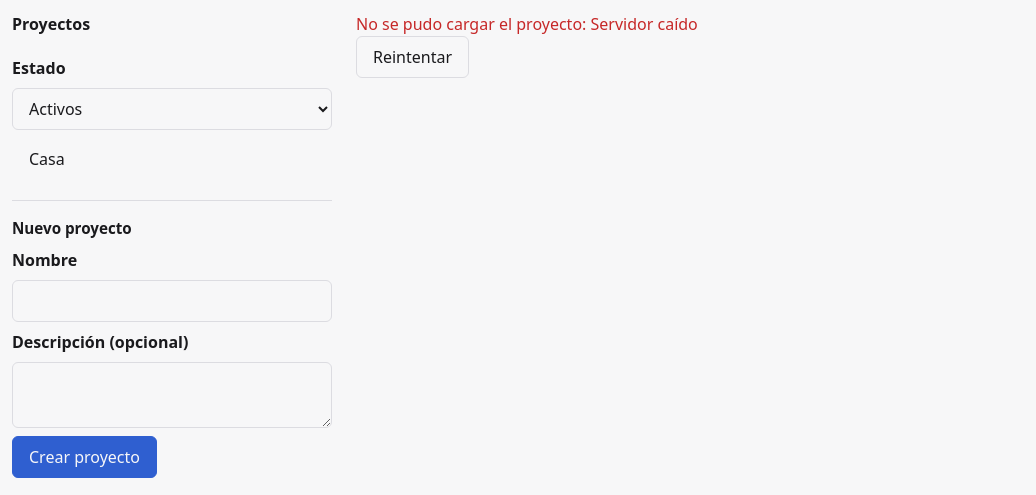
it: ProjectsPage selection › keeps a hash selection when loading it fails and offers a retry
Expected: the message shows "Servidor caído", [590, 13, 698, 35]
What coordinates should you click on to do the following:
click the button "Reintentar"
I would click on:
 (412, 57)
Its box is [356, 36, 469, 78].
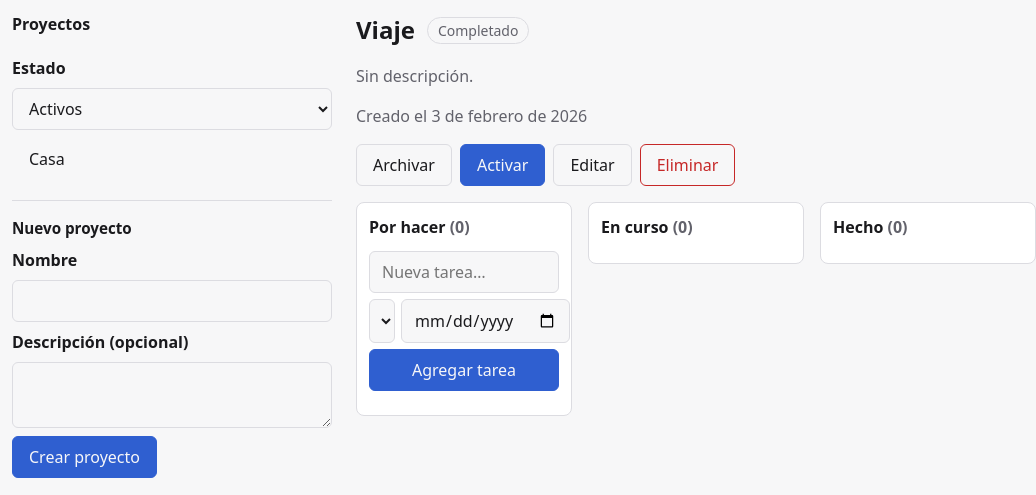
Expected: the heading "Viaje" is shown, [356, 12, 415, 48]
